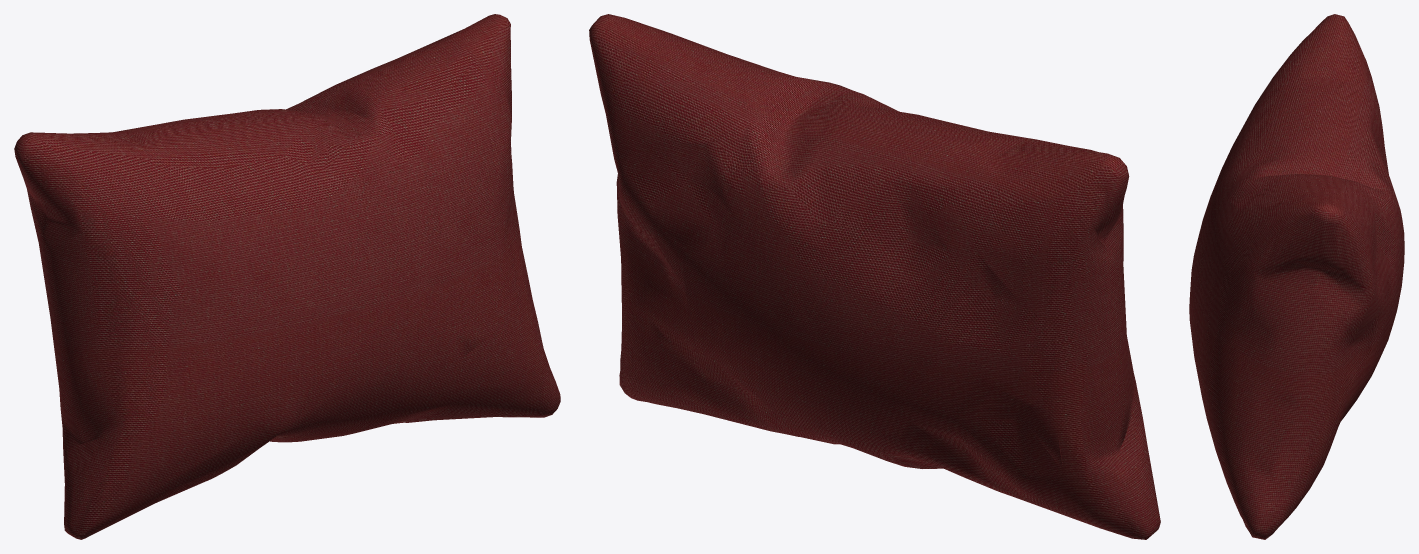
Rendered from Pillow 3.FBX.
The picture shows the model from 3 angles, left to right: view 1: azimuth 30°, elevation 25°; view 2: azimuth 150°, elevation 25°; view 3: azimuth 270°, elevation 25°; orthographic projection. The views are drawn at different scales.
Visible parts, largest first — view 1: pillow 3; view 2: pillow 3; view 3: pillow 3.
Part boxes in pixels (x1,y1,x2,y2): pillow 3: (14,14,560,539); pillow 3: (589,14,1160,539); pillow 3: (1189,14,1404,539).
Bounding box in the file's own units: 35.94 × 26.62 × 15.24.
1 material, 1 textured.
